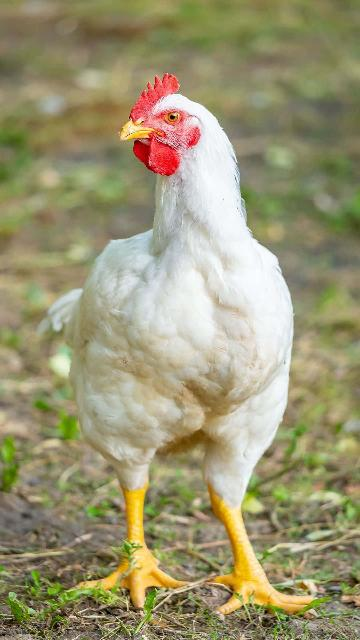My-First-Project: (35, 75, 327, 618)
